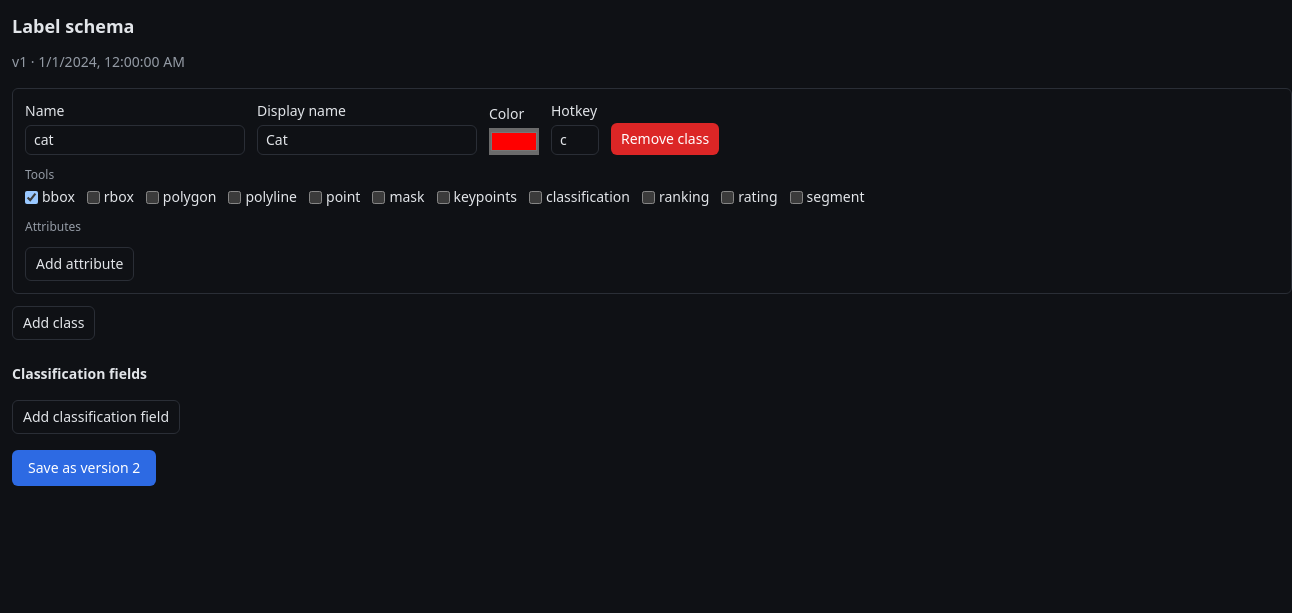
Test case: skeleton editing › saves a rating scale edited in the form, and drops it with the tool
Click the checkbox labelled "rating" at (728, 197), box [721,190,734,204]
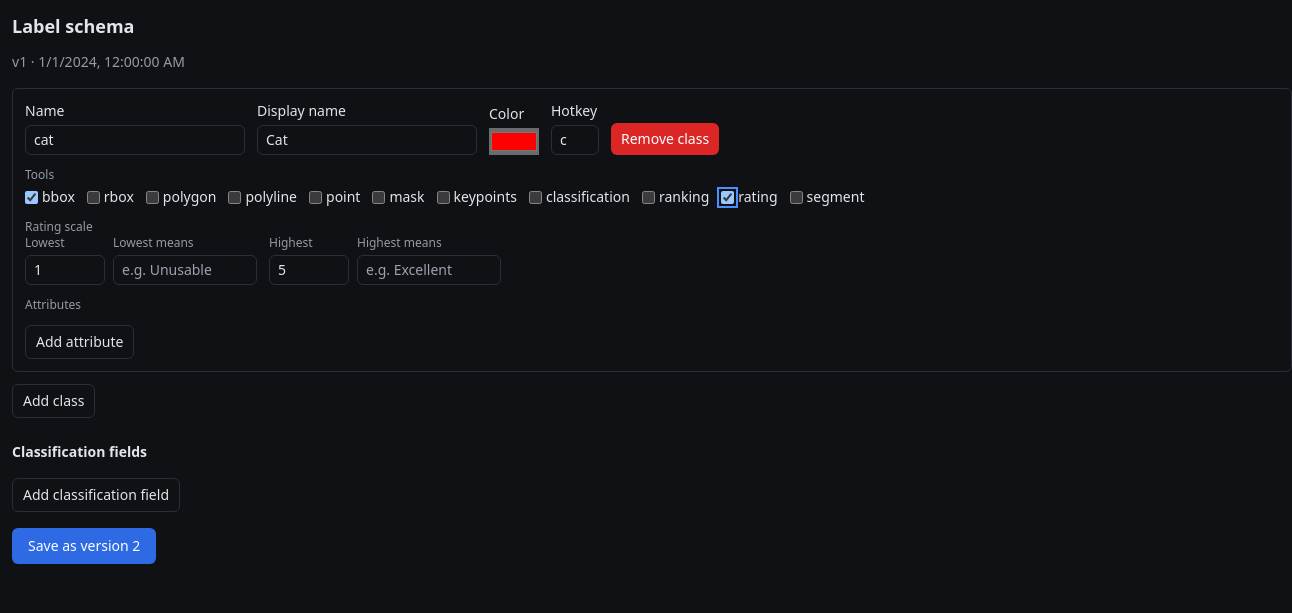
Replace the text in the number field named "class-0-scale-max" with "7" at (309, 270), box [269,255,349,285]
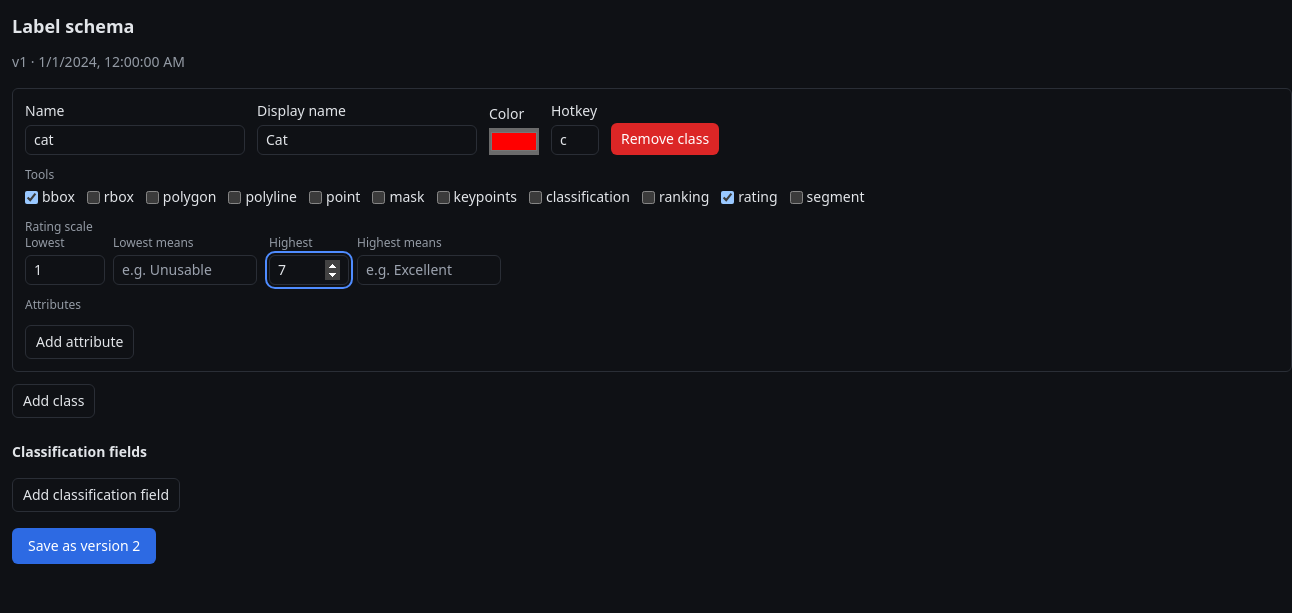
Type "Excellent" into the field named "class-0-scale-max-label" at (429, 270), box [357,255,501,285]
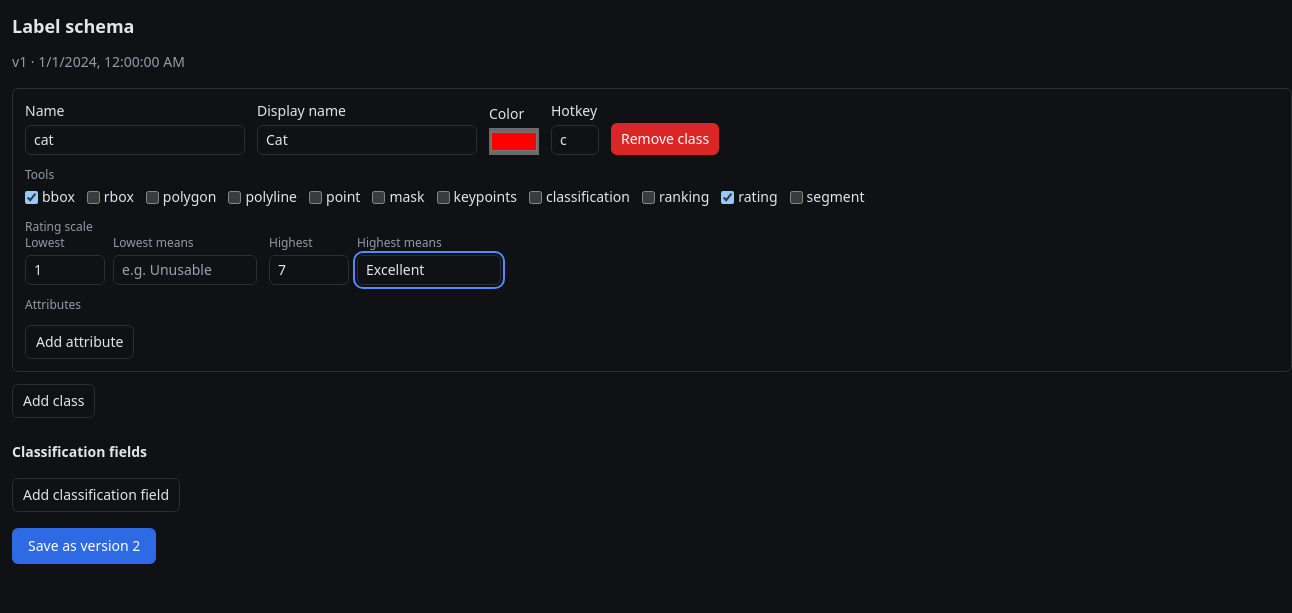
Click the button "Save as version 2" at (84, 546), box [12,528,156,564]
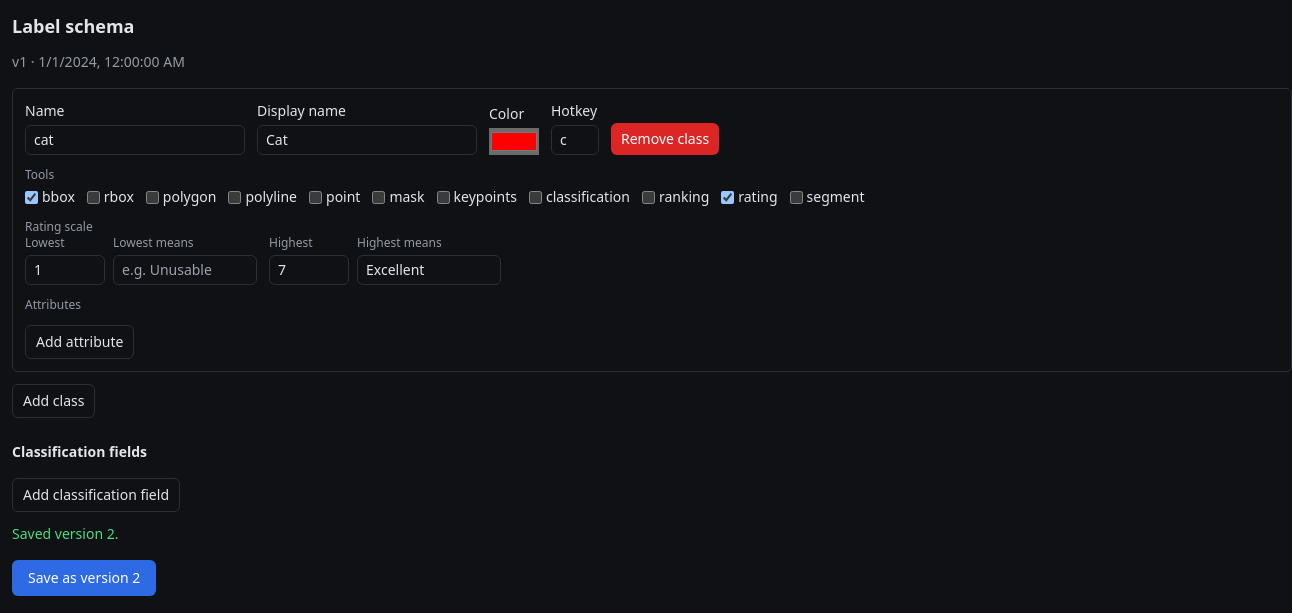
Click the checkbox labelled "rating" at (728, 197), box [721,190,734,204]
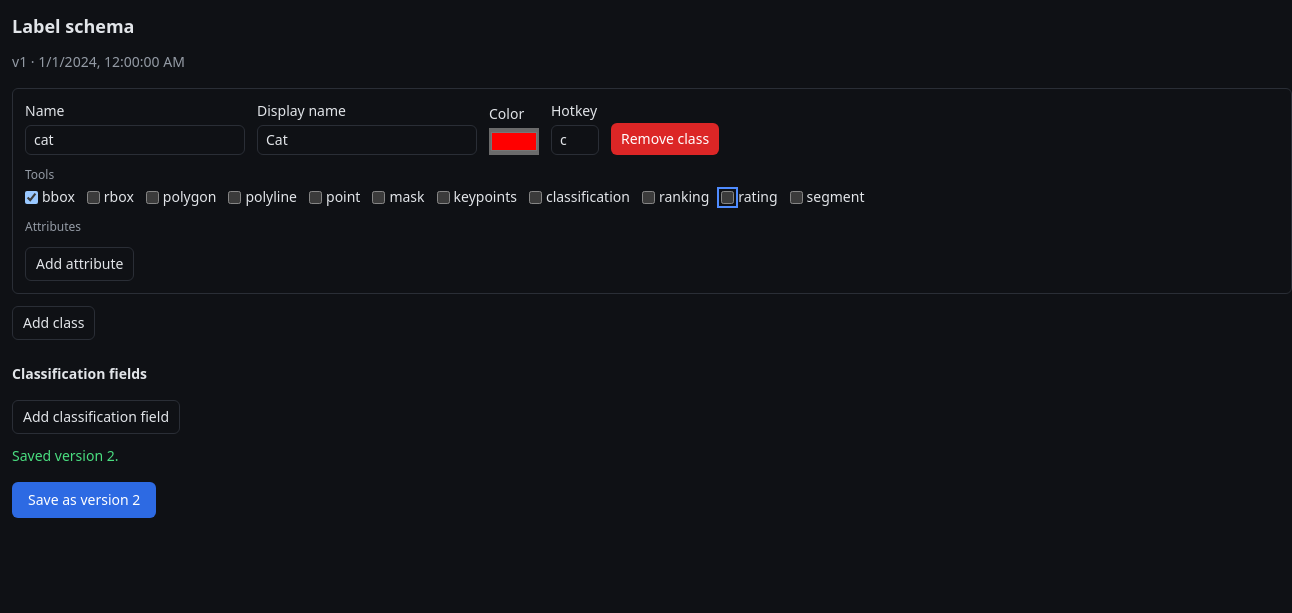
Expected: the number field labelled "class-0-scale-max" is gone
